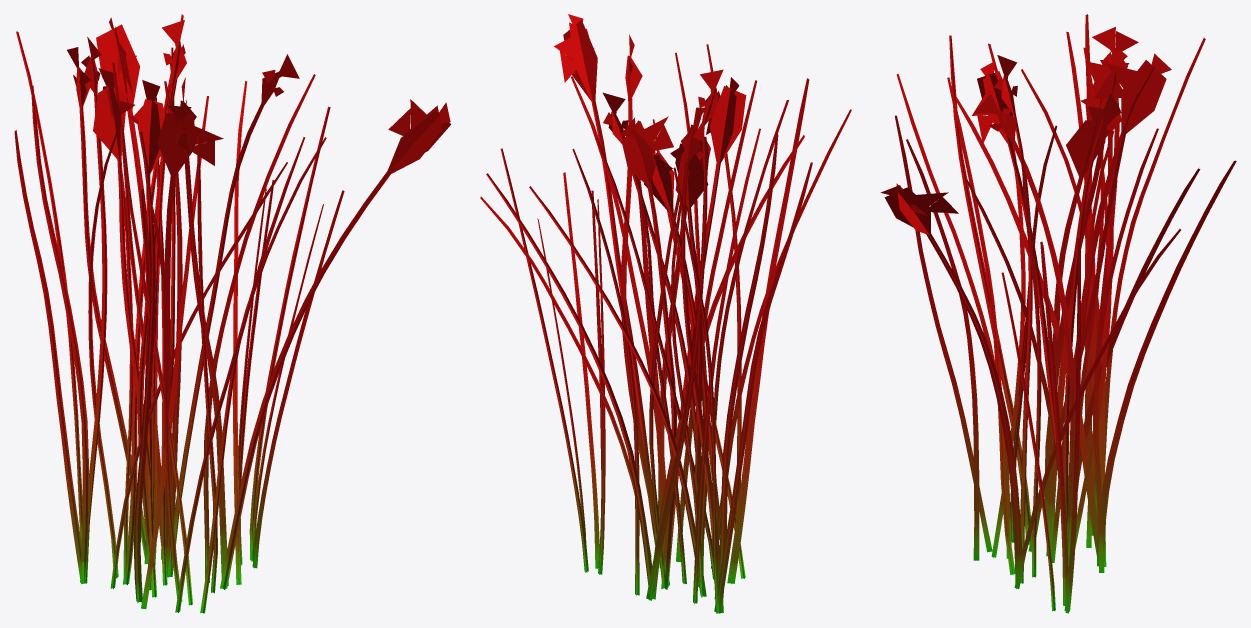
File: Var5_LOD0.fbx
3 views of the same model, side by side, from view 1: azimuth 30°, elevation 25°; view 2: azimuth 150°, elevation 25°; view 3: azimuth 270°, elevation 25° (orthographic). The views are drawn at different scales.
Parts seen in each view (by area): view 1: _2015_Var5_LOD0; view 2: _2015_Var5_LOD0; view 3: _2015_Var5_LOD0.
Part boxes in pixels (left/top/right/bottom): _2015_Var5_LOD0: left=14, top=14, right=451, bottom=613; _2015_Var5_LOD0: left=480, top=14, right=851, bottom=613; _2015_Var5_LOD0: left=880, top=14, right=1236, bottom=613.
Bounding box in the file's own units: 95.03 × 141 × 87.28.
